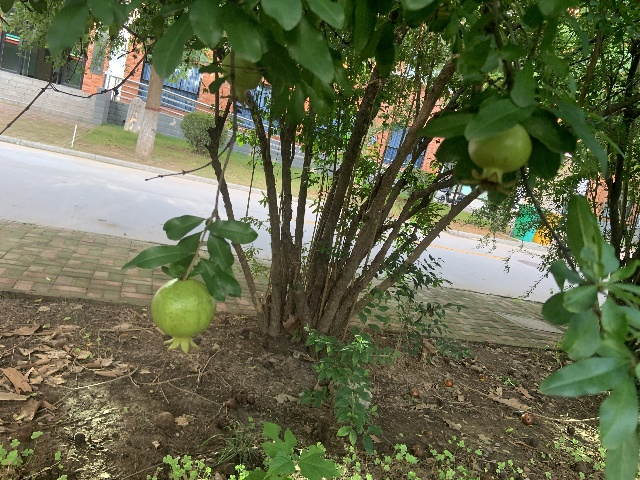mid-growth: (460, 123, 532, 196), (151, 278, 216, 352)
